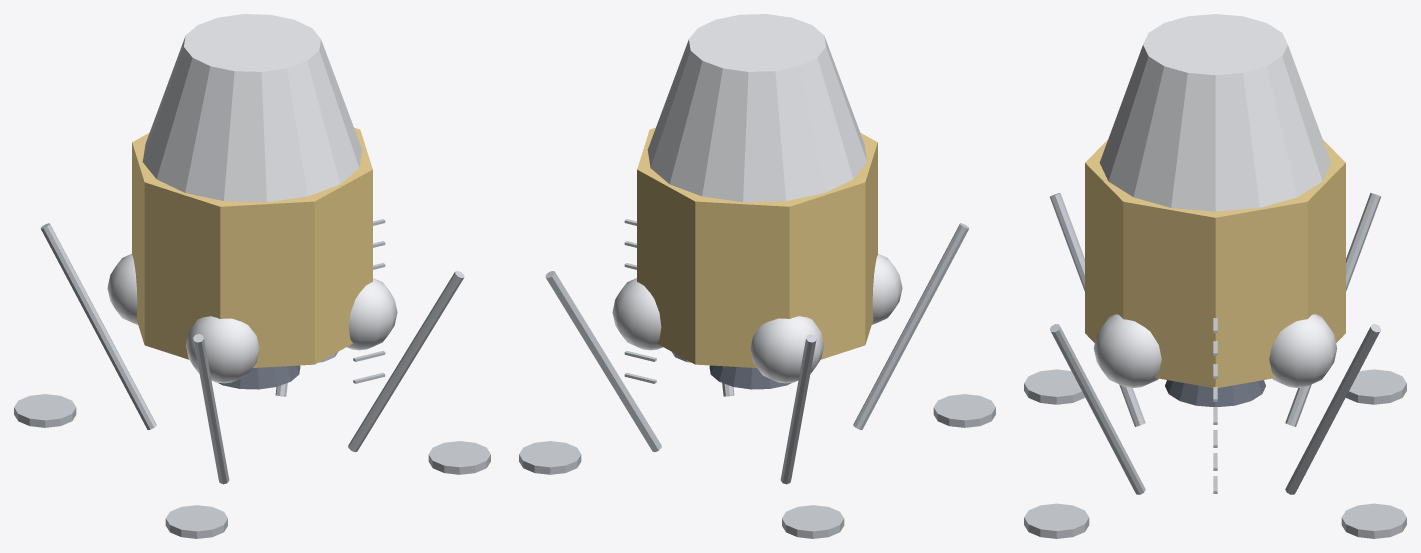
File: lander__lander.fbx
The picture shows the model from 3 angles, left to right: view 1: azimuth 30°, elevation 25°; view 2: azimuth 150°, elevation 25°; view 3: azimuth 270°, elevation 25°; orthographic projection. The views are drawn at different scales.
Parts seen in each view (by area): view 1: lander__lander; view 2: lander__lander; view 3: lander__lander.
Boxes of the visible parts, x1,y1,x2,y2 form: lander__lander: [14, 14, 490, 538]; lander__lander: [519, 14, 995, 538]; lander__lander: [1024, 14, 1406, 538].
Size of the model in its own units: 5.28 by 6.33 by 5.28.
